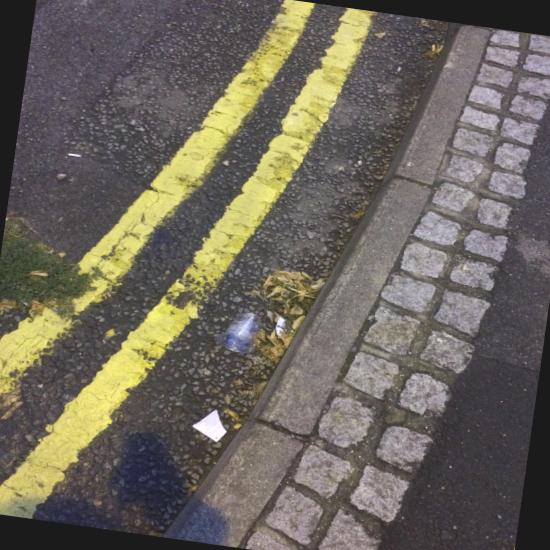Disposable plastic cup: (216, 312, 261, 352)
Normal paper: (192, 410, 226, 442)
Unlabeled litter: (275, 316, 294, 336)
